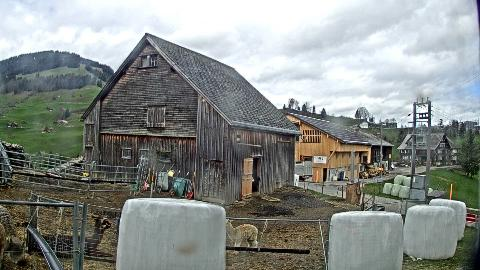car: (390, 162, 396, 172)
sheep: (38, 214, 112, 260), (0, 204, 28, 258), (224, 219, 260, 255), (252, 176, 260, 192), (252, 176, 254, 182)
